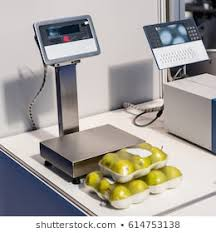Industrial Scale: (27, 12, 149, 185)
